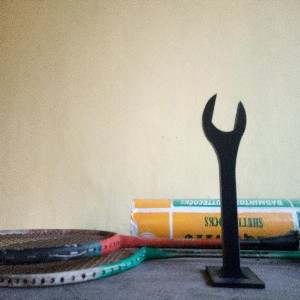spanner: (201, 93, 266, 290)
